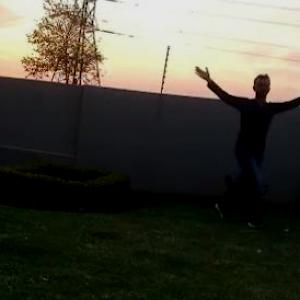takeoff: (190, 74, 299, 212)
